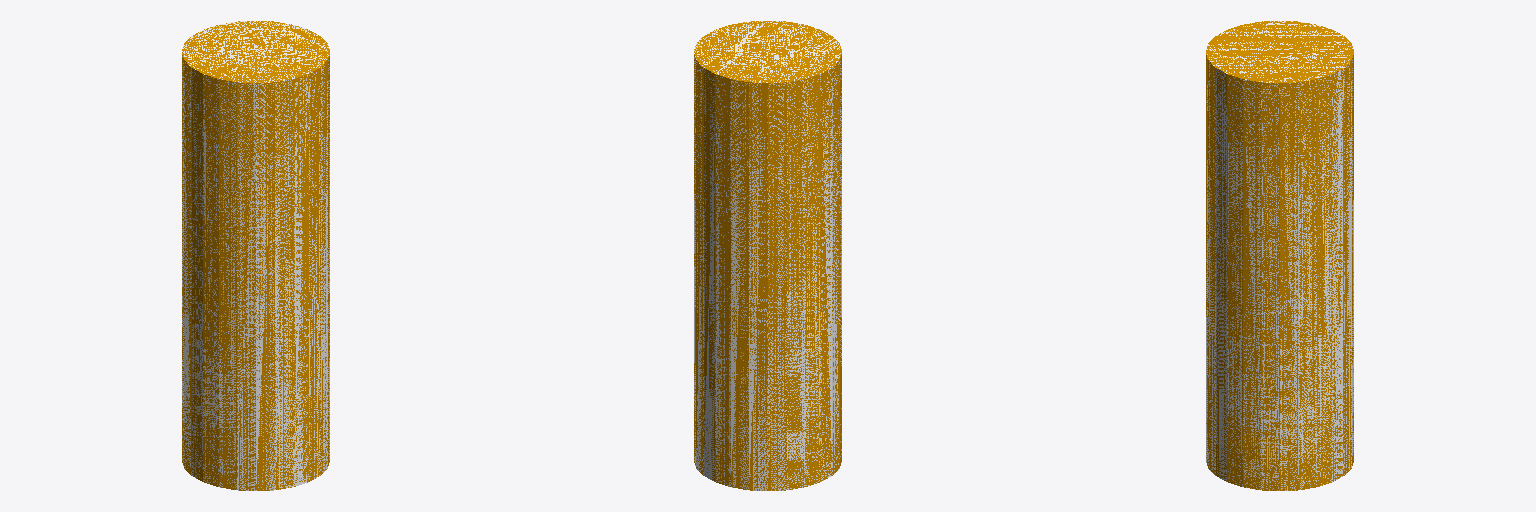
robot.urdf — my_object:
<?xml version="1.0" ?>
<robot name="my_object" static="true">
  <link name="base_link">
  <inertial>
    <mass value="0.045" />
    <origin xyz="0 0 0.0" />
    <inertia ixx="1.0" ixy="0.0" ixz="0.0" iyy="1.0" iyz="0.0" izz="1.0"/>
  </inertial>
  <visual>
   <origin xyz="0 0 0.0" rpy="0 0 3.141592654" />
   <geometry>
     <mesh filename="package://cob_gazebo_objects/Media/models/pringles_red.dae"/>
   </geometry>
  </visual>
  <collision>
   <origin xyz="0 0.00 0.115" rpy="0 0 3.141592654" />
   <geometry>
     <box size="0.075 0.075 0.23" />
   </geometry>
  </collision>
  </link>

<gazebo>
	<static>true</static>
</gazebo>
</robot>

--- Render facts (derived) ---
3 views of the same robot in one strip: view 1: azimuth 30°, elevation 25°; view 2: azimuth 150°, elevation 25°; view 3: azimuth 270°, elevation 25° (orthographic).
Model my_object with 1 links and 0 joints (none), rooted at base_link, posed all joints at 0.
Links seen in each view (by area): view 1: base_link; view 2: base_link; view 3: base_link.
Link boxes in pixels (x1,y1,x2,y2): base_link: (182,21,329,490); base_link: (694,21,841,490); base_link: (1206,21,1353,490).
Size in the robot's own frame: 0.076 by 0.076 by 0.23 metres.
1 mesh visuals loaded from 1 distinct referenced files (1 Collada DAE).